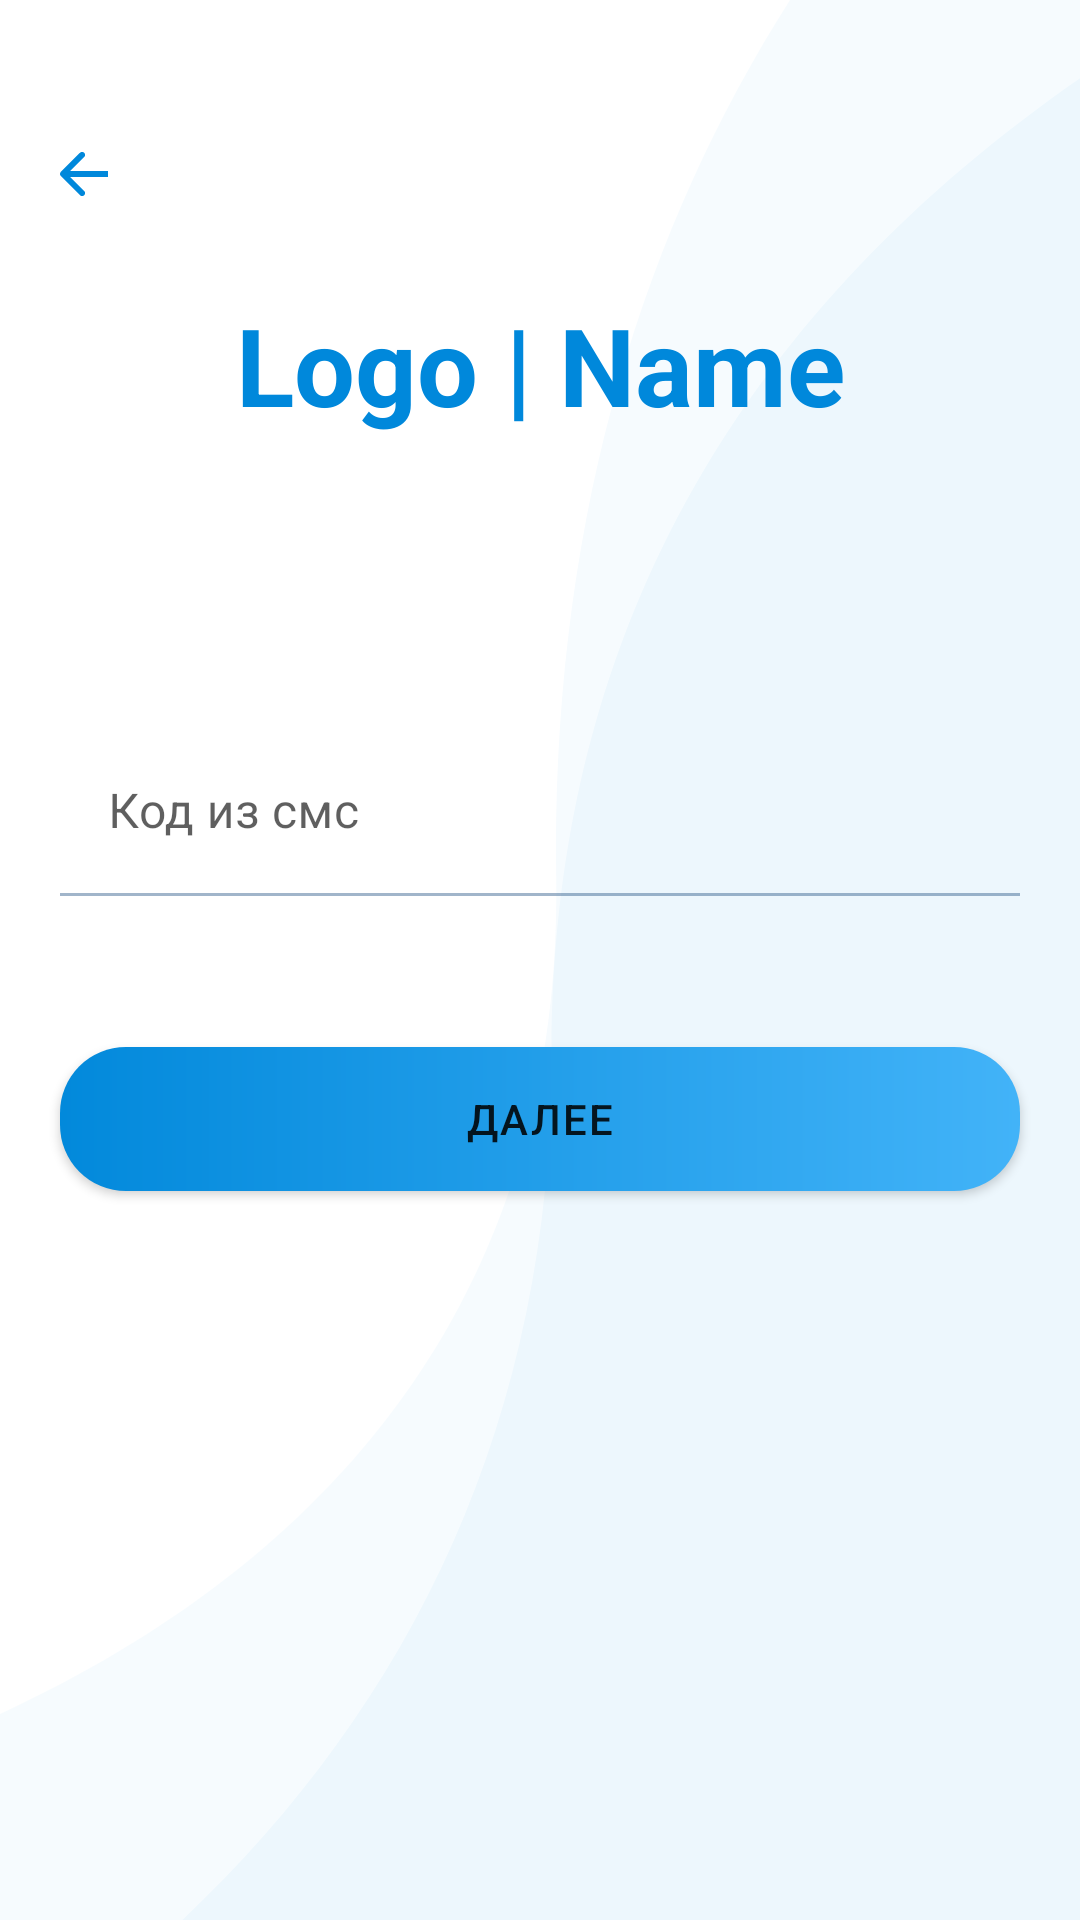

Named icons in this screenshot (1080×1920) and their centers, (x=x, y=y):
back: (x=84, y=174)
